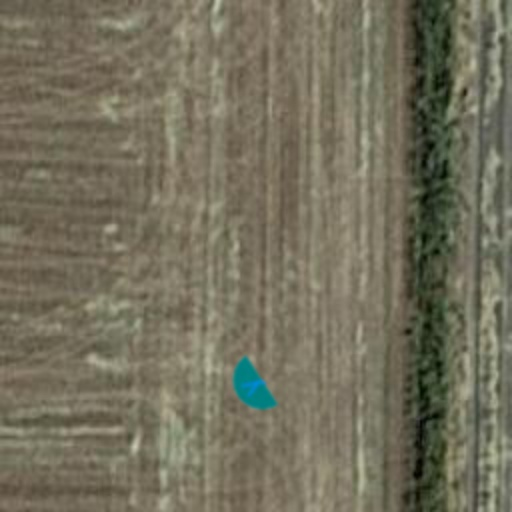semicircle: (208, 346, 292, 430)
